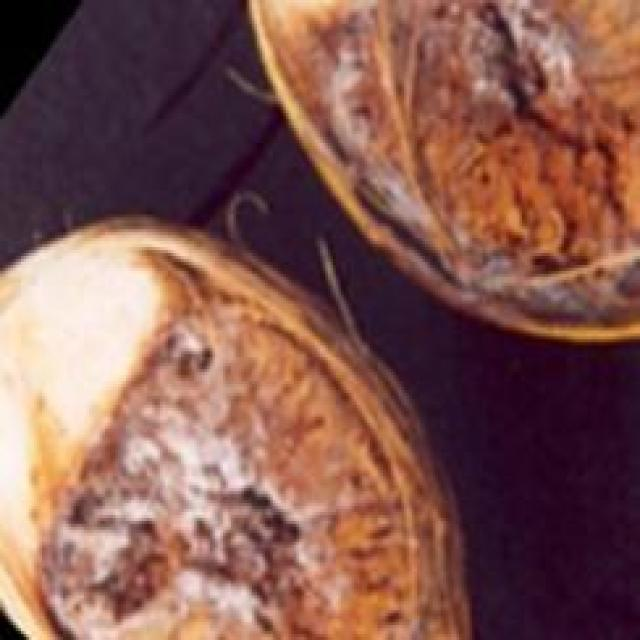damaged: (0, 214, 477, 637), (244, 0, 637, 348)
